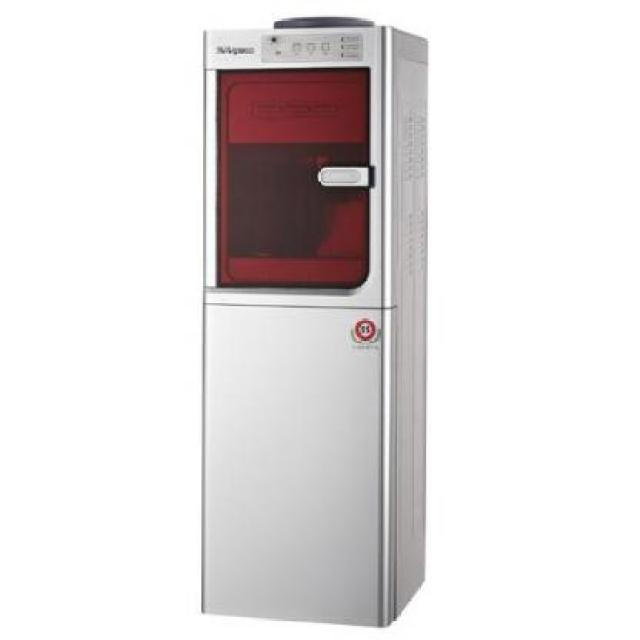cooler: (197, 11, 431, 633)
